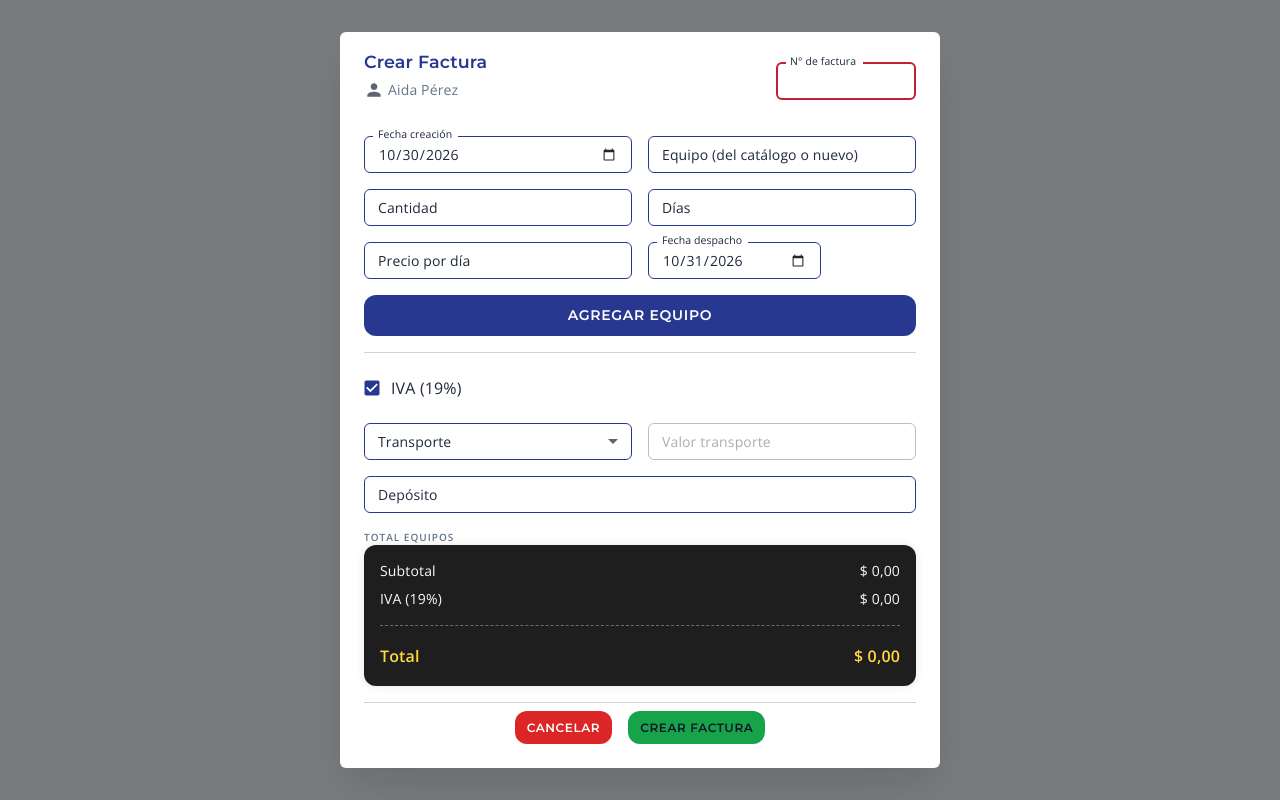
Test case: FacturaFormDialog — lo que no deja guardar › no agrega un equipo a medio llenar, y dice qué le falta a cada campo
Click the button "Agregar equipo" at [640, 316], box [364,295,916,336]
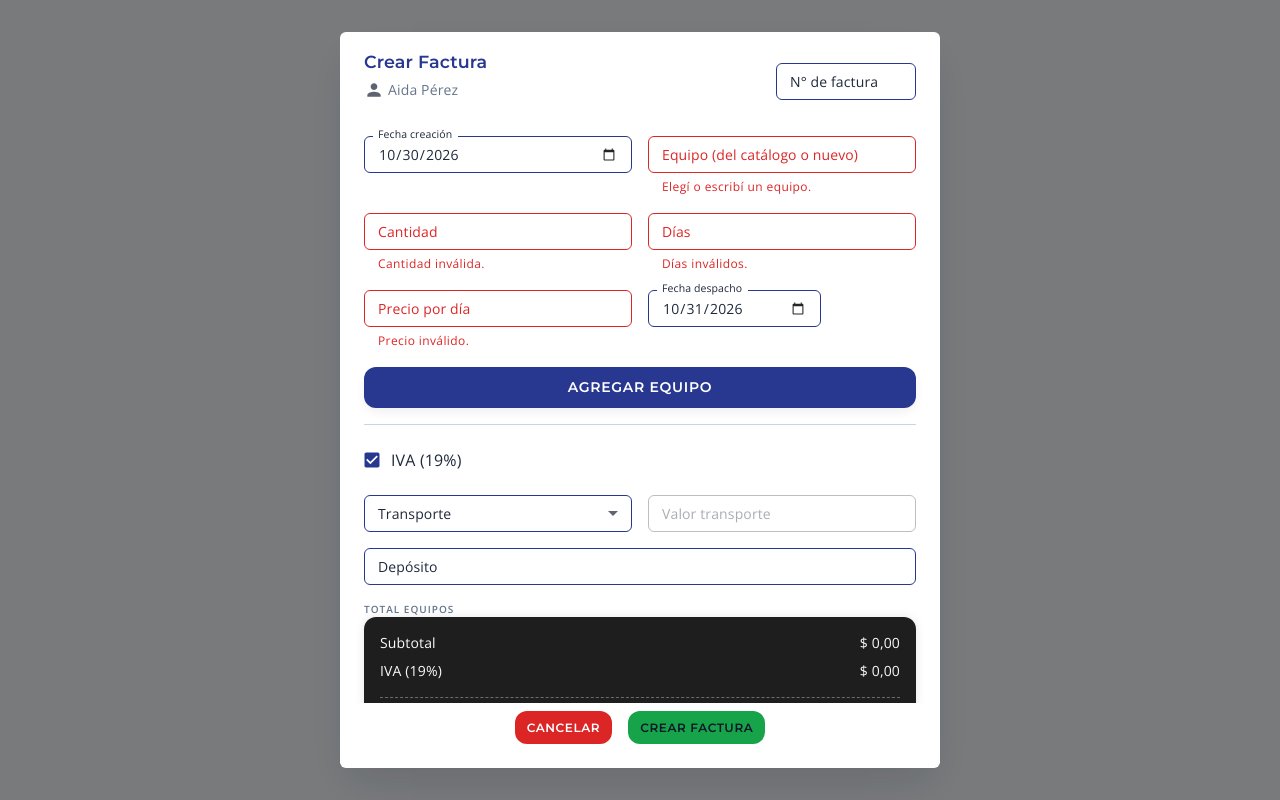
Check: the text "Elegí o escribí un equipo." is shown, box [662,178,812,195]
Check: the text "Cantidad inválida." is shown, box [378,255,485,272]
Check: the text "Días inválidos." is shown, box [662,255,748,272]
